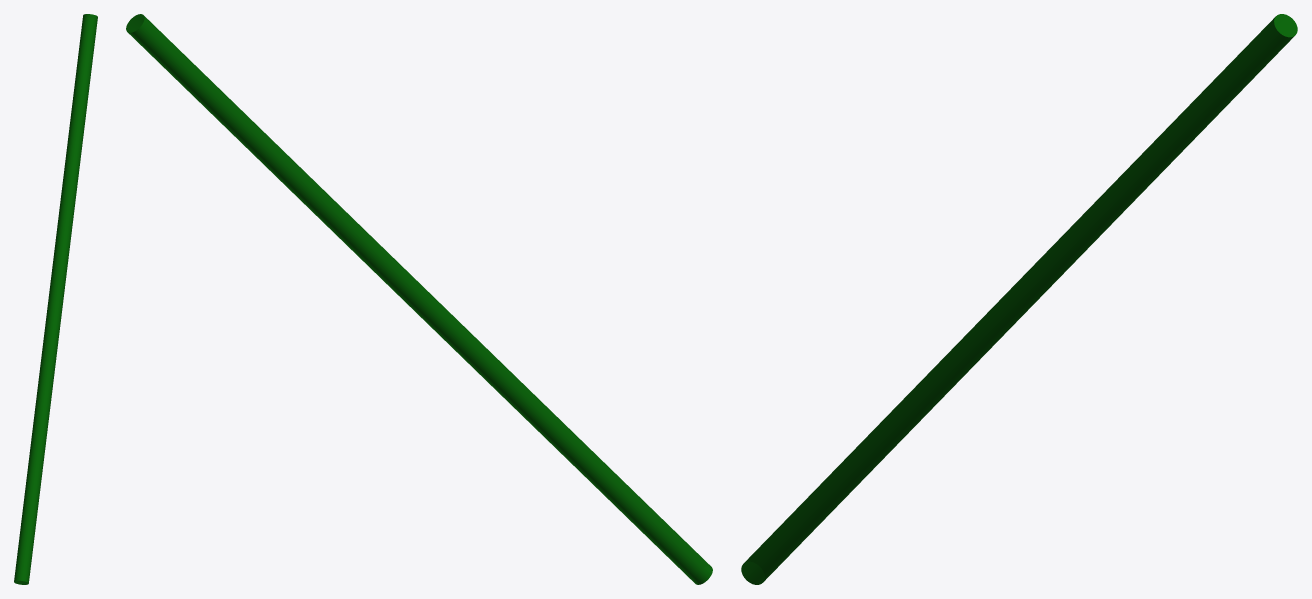
The model's file is Event_195102316_jet_1.fbx.
3 renders of one model, left to right at view 1: azimuth 30°, elevation 25°; view 2: azimuth 150°, elevation 25°; view 3: azimuth 270°, elevation 25°, orthographic. The views are drawn at different scales.
Visible parts, largest first — view 1: Model; view 2: Model; view 3: Model.
Boxes of the visible parts, x1,y1,x2,y2 form: Model: (14, 14, 97, 584); Model: (126, 14, 712, 584); Model: (741, 14, 1297, 584).
Bounding box in the file's own units: 0.6995 × 1.22 × 0.8152.
